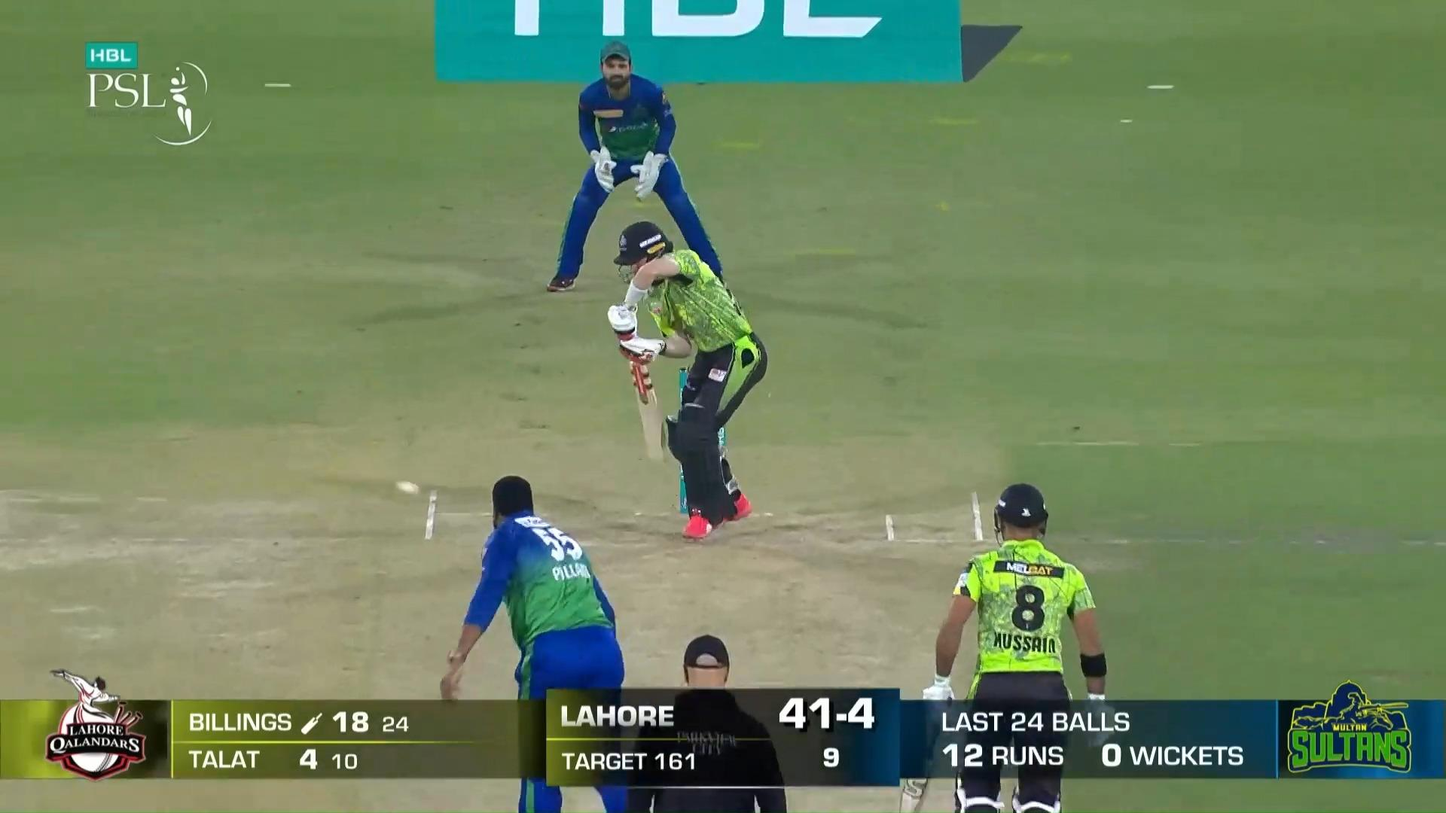batsman: (608, 220, 768, 537)
